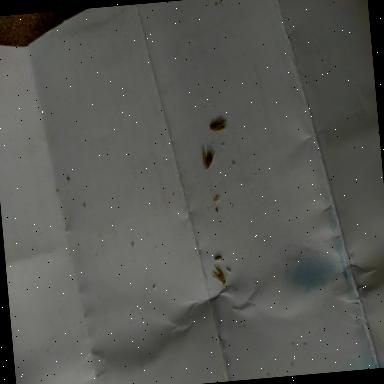pbw: (210, 264, 226, 288), (202, 146, 216, 170), (210, 116, 228, 134)
